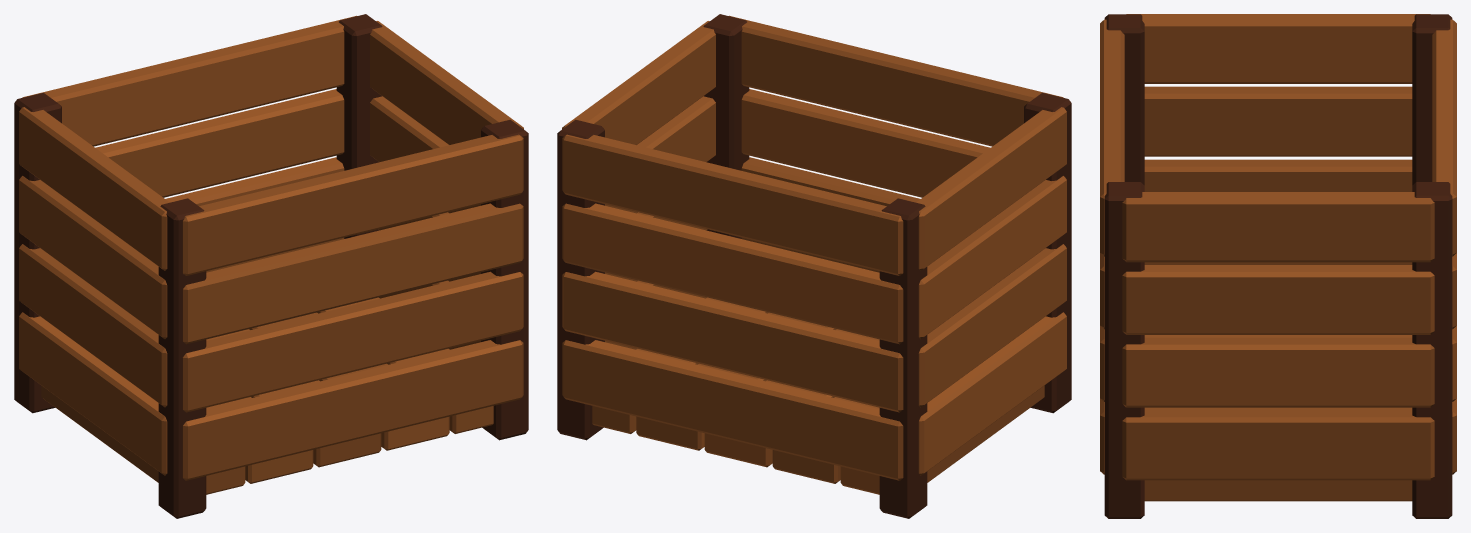
The model's file is D05_Crate_Open.fbx.
3 views of the same model, side by side, from view 1: azimuth 30°, elevation 25°; view 2: azimuth 150°, elevation 25°; view 3: azimuth 270°, elevation 25° (orthographic). The views are drawn at different scales.
Parts seen in each view (by area): view 1: D05_Crate_Open; view 2: D05_Crate_Open; view 3: D05_Crate_Open.
Part boxes in pixels (bbox=[...]): D05_Crate_Open: bbox=[14, 14, 528, 518]; D05_Crate_Open: bbox=[557, 14, 1071, 518]; D05_Crate_Open: bbox=[1100, 14, 1456, 518].
Bounding box in the file's own units: 1 × 0.8 × 0.8.
Materials: 2 (2 with a texture image).
